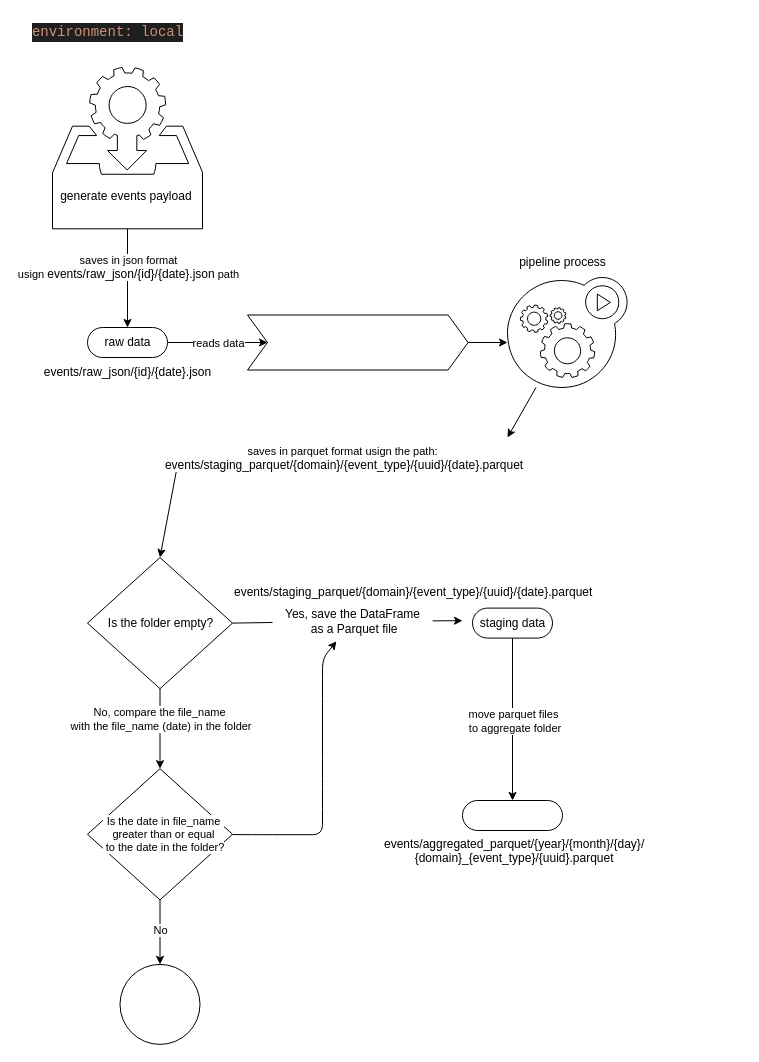
Image size: 759x1062. Some labels were removed from this diagram. The shapes that lost their labels are listed below. From the top down, each one's box as (x1, y1, x2, y2) in pixels, then its label:
(246, 314, 468, 370): for each json file in the structure: events/raw_json/{id}/{date}.json
(462, 800, 562, 830): aggregated data
(119, 963, 200, 1044): End flow
